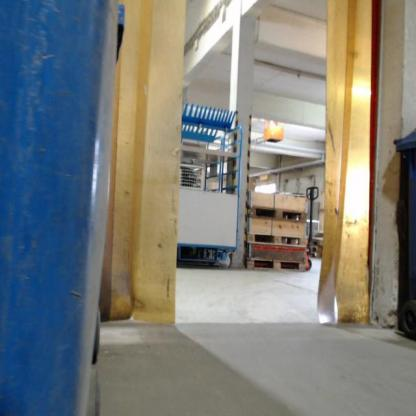pallet: (247, 205, 307, 224), (247, 232, 306, 247), (246, 258, 306, 272)
pallet_truck: (300, 181, 325, 272)
stillage: (178, 138, 206, 191)
